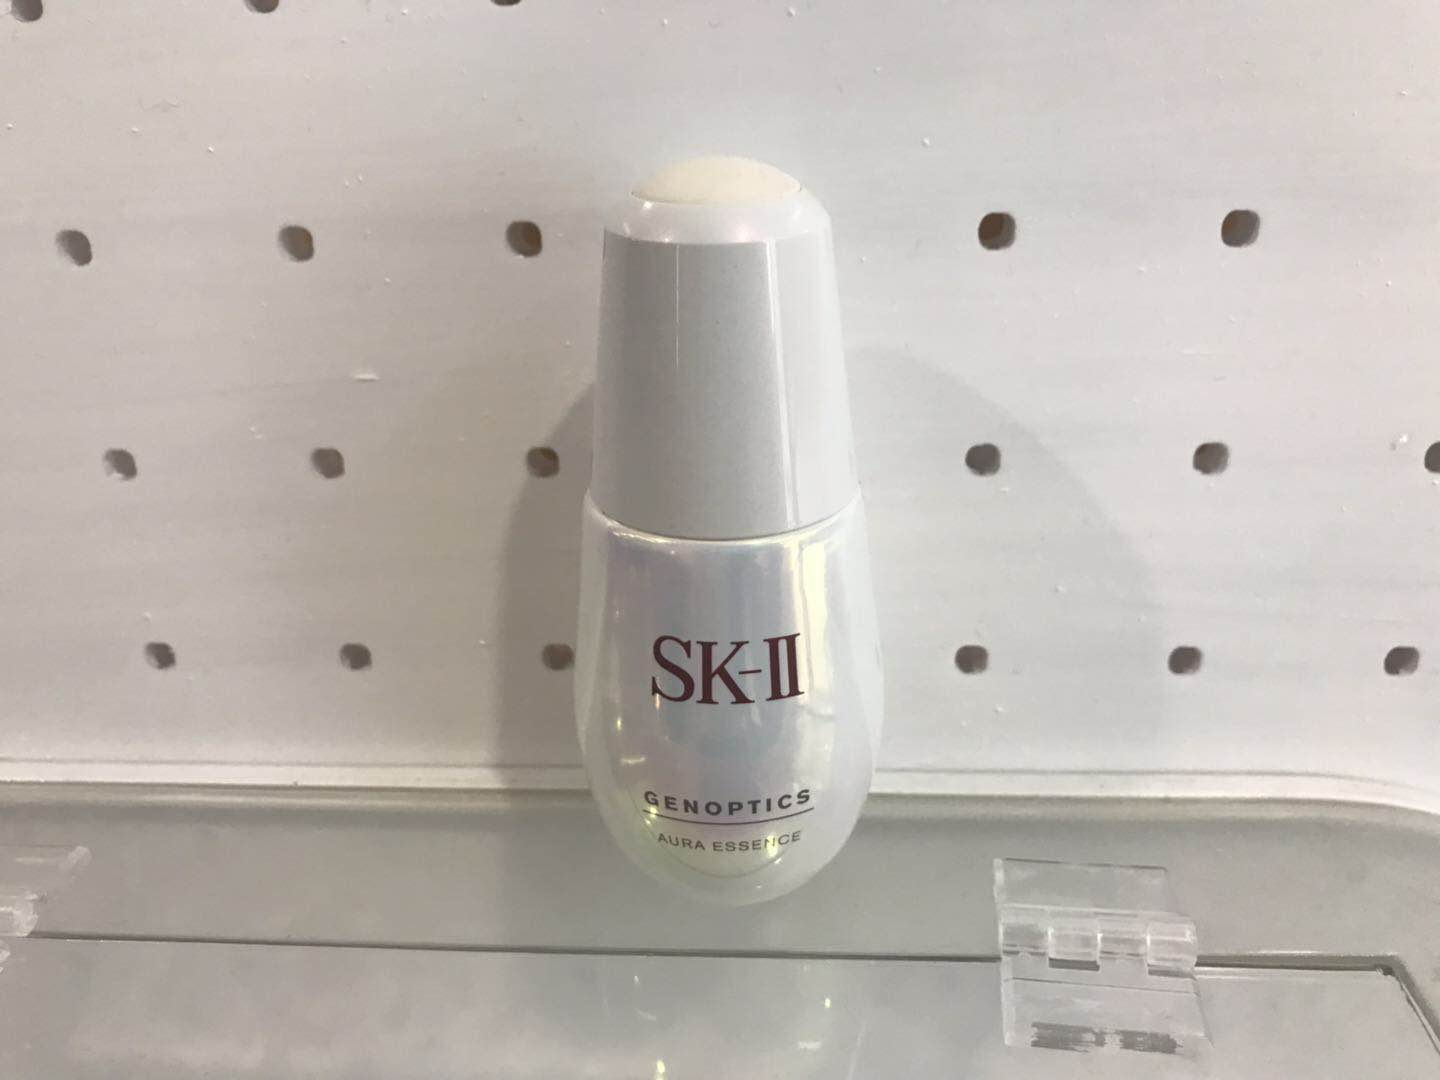sk2: (542, 132, 920, 943)
